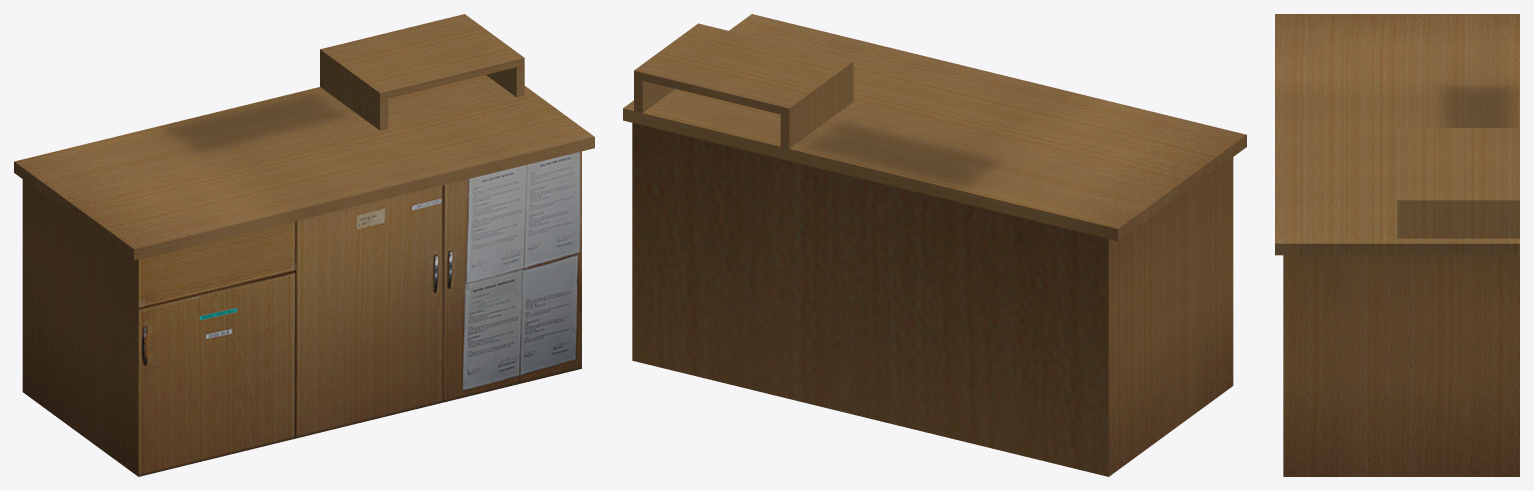
Rendered from Furniture02.FBX.
The picture shows the model from 3 angles, left to right: view 1: azimuth 30°, elevation 25°; view 2: azimuth 150°, elevation 25°; view 3: azimuth 270°, elevation 25°; orthographic projection. The views are drawn at different scales.
Visible parts, largest first — view 1: Furniture02; view 2: Furniture02; view 3: Furniture02.
Part boxes in pixels (bbox=[...]): Furniture02: bbox=[14, 14, 594, 476]; Furniture02: bbox=[623, 14, 1246, 476]; Furniture02: bbox=[1275, 14, 1519, 476].
Size of the model in its own units: 1.94 by 1.09 by 0.8767.
